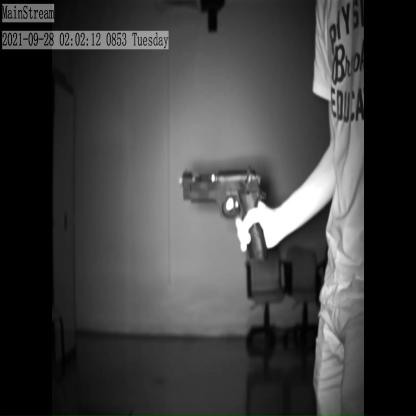weapon: (180, 163, 271, 271)
